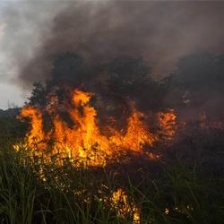fire: (23, 98, 160, 170), (110, 189, 142, 223)
smoke: (27, 12, 220, 75)
